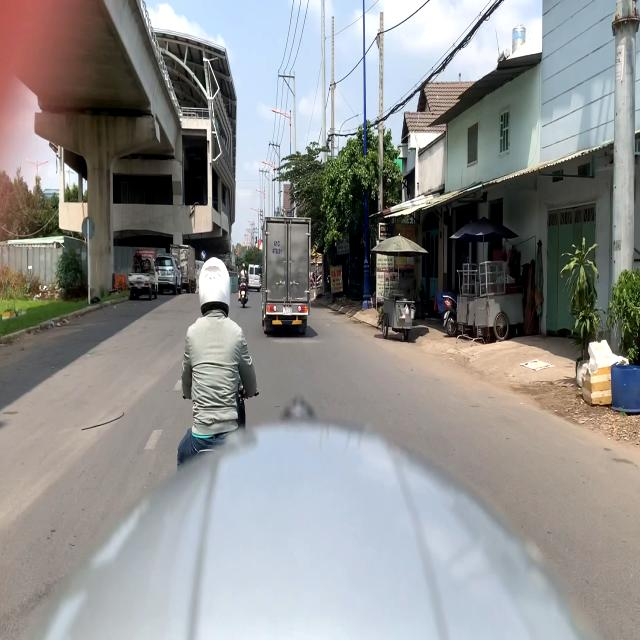R.302a: (200, 250, 207, 260)
